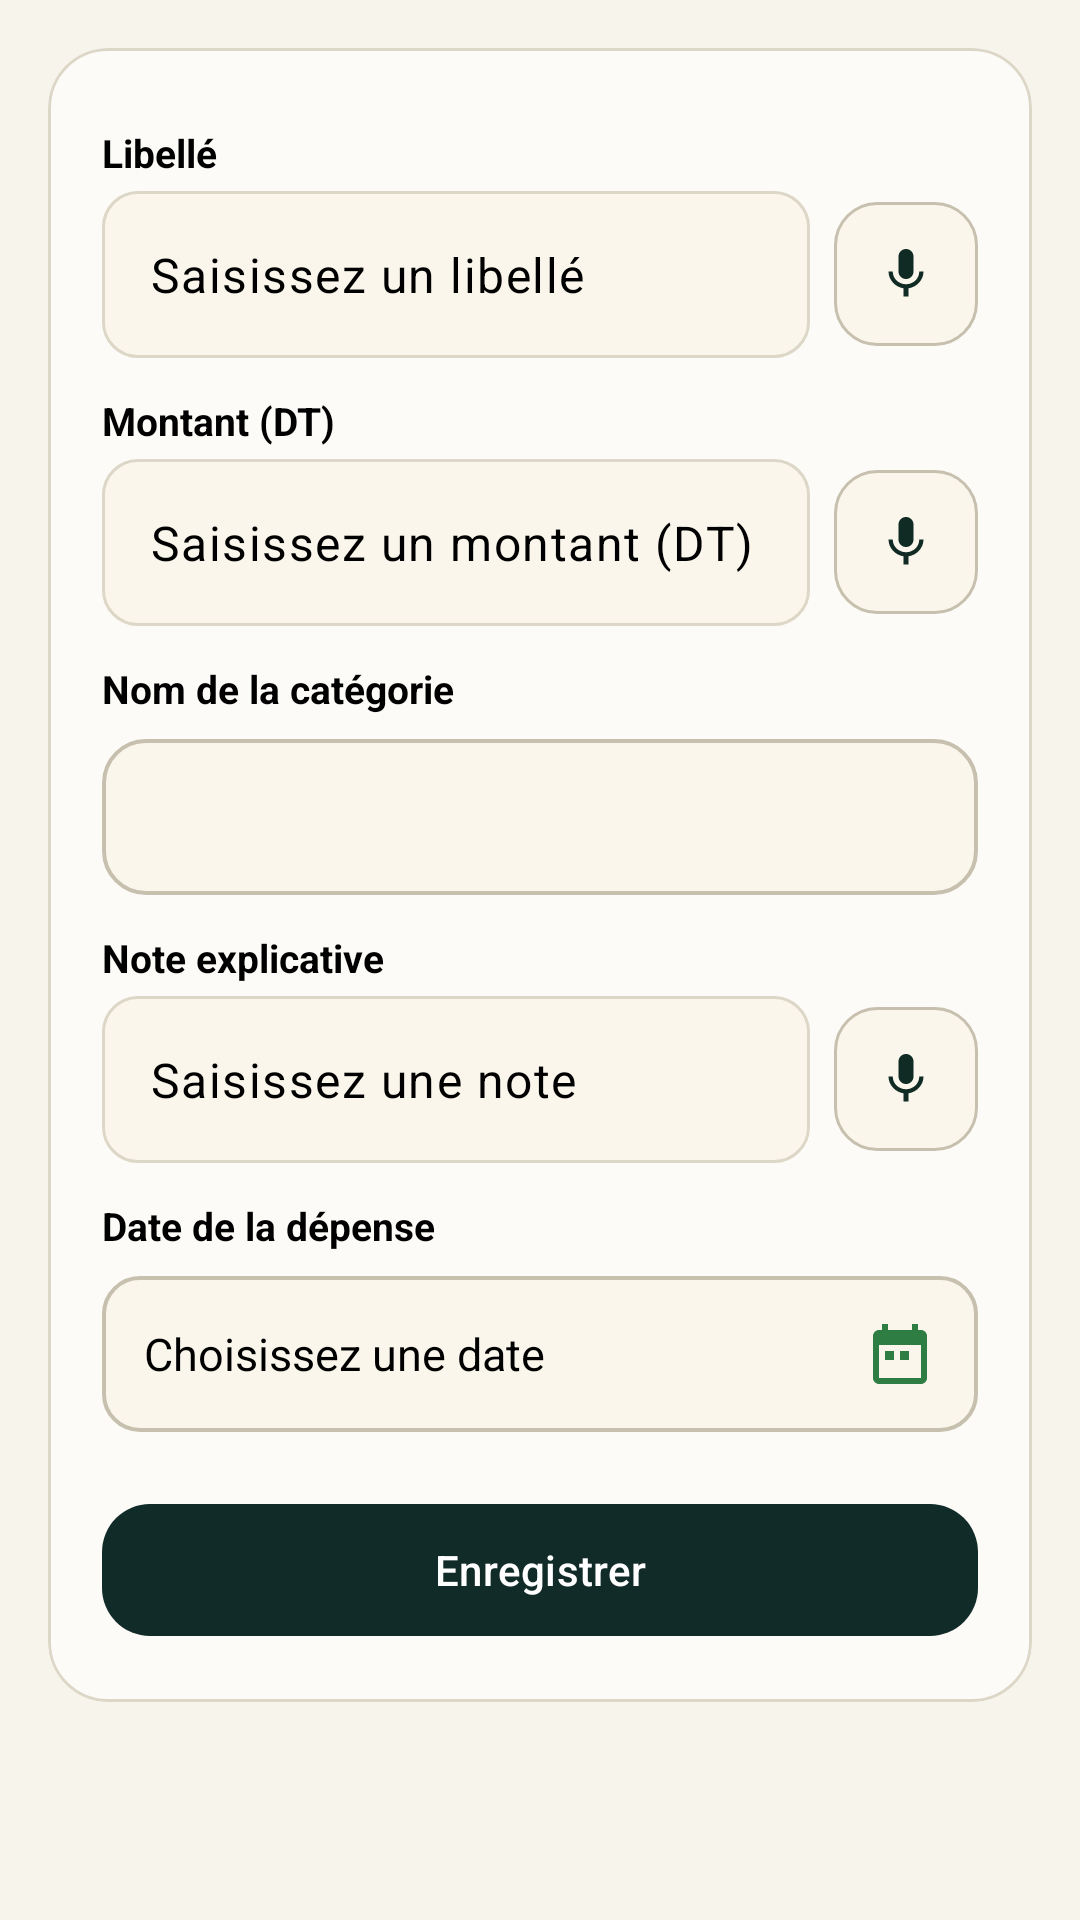

Named icons in this screenshot (1080 x 1920) and their centers, (x,y):
Dicter ce champ par la voix: (906,274), (906,542), (906,1079)
